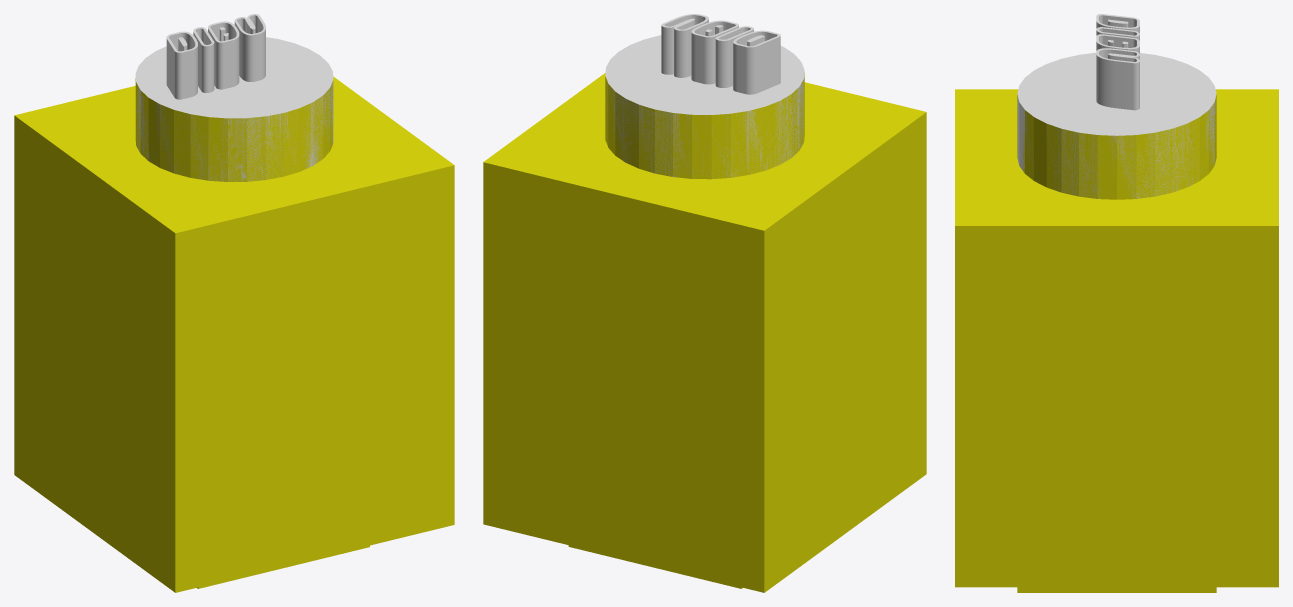
The model's file is Lego.glb.
3 renders of one model, left to right at view 1: azimuth 30°, elevation 25°; view 2: azimuth 150°, elevation 25°; view 3: azimuth 270°, elevation 25°, orthographic.
Visible parts, largest first — view 1: Cube, Cilindro, Texto; view 2: Cube, Cilindro, Texto; view 3: Cube, Cilindro, Texto, Cube.001.
Boxes of the visible parts, x1,y1,x2,y2 form: Cube: [14, 76, 454, 592]; Cilindro: [135, 37, 333, 181]; Texto: [166, 14, 265, 99]; Cube: [483, 73, 926, 592]; Cilindro: [605, 35, 804, 178]; Texto: [661, 14, 780, 94]; Cube: [955, 89, 1278, 587]; Cilindro: [1017, 52, 1216, 198]; Texto: [1096, 14, 1139, 110]; Cube.001: [1017, 587, 1216, 592].
Size of the model in its own units: 1.56 by 2.68 by 1.56.
